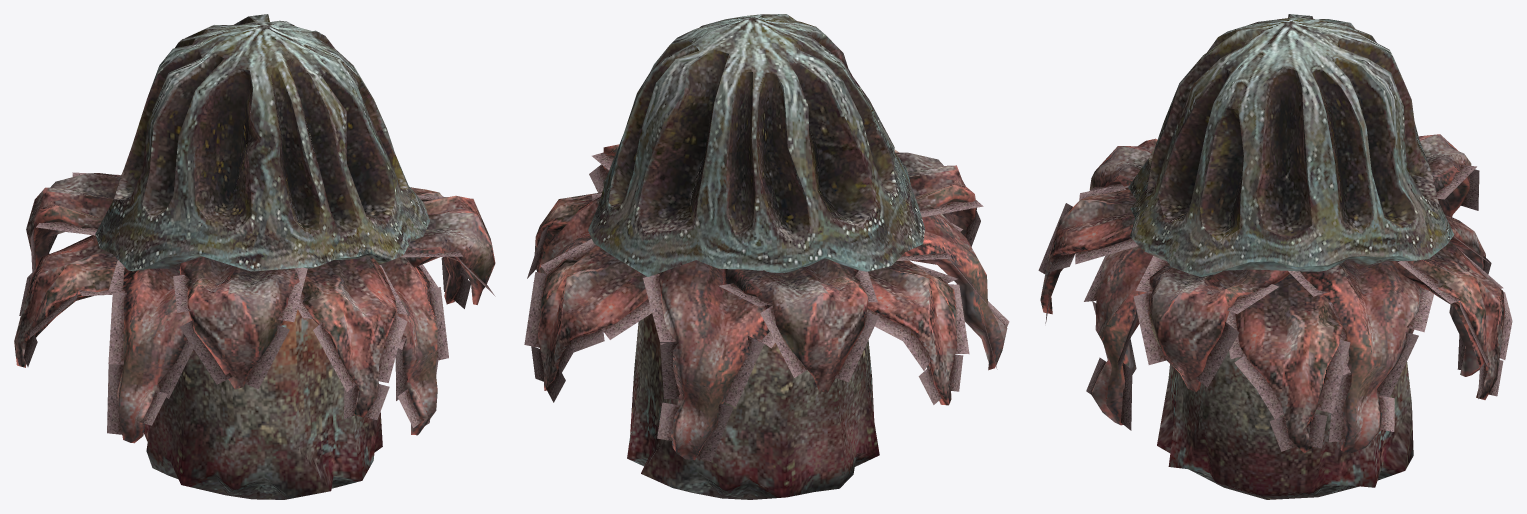
Rendered from dw_lamp_plant_01.dae.
3 renders of one model, left to right at view 1: azimuth 30°, elevation 25°; view 2: azimuth 150°, elevation 25°; view 3: azimuth 270°, elevation 25°, orthographic.
Parts seen in each view (by area): view 1: darkworld_plants_02; view 2: darkworld_plants_02; view 3: darkworld_plants_02.
Part boxes in pixels (box(x1,y1,x2,y2)): darkworld_plants_02: box(14, 14, 495, 499); darkworld_plants_02: box(524, 14, 1009, 499); darkworld_plants_02: box(1038, 14, 1512, 499).
Size of the model in its own units: 0.5218 by 0.509 by 0.4975.
Materials: 1 (1 with a texture image).
